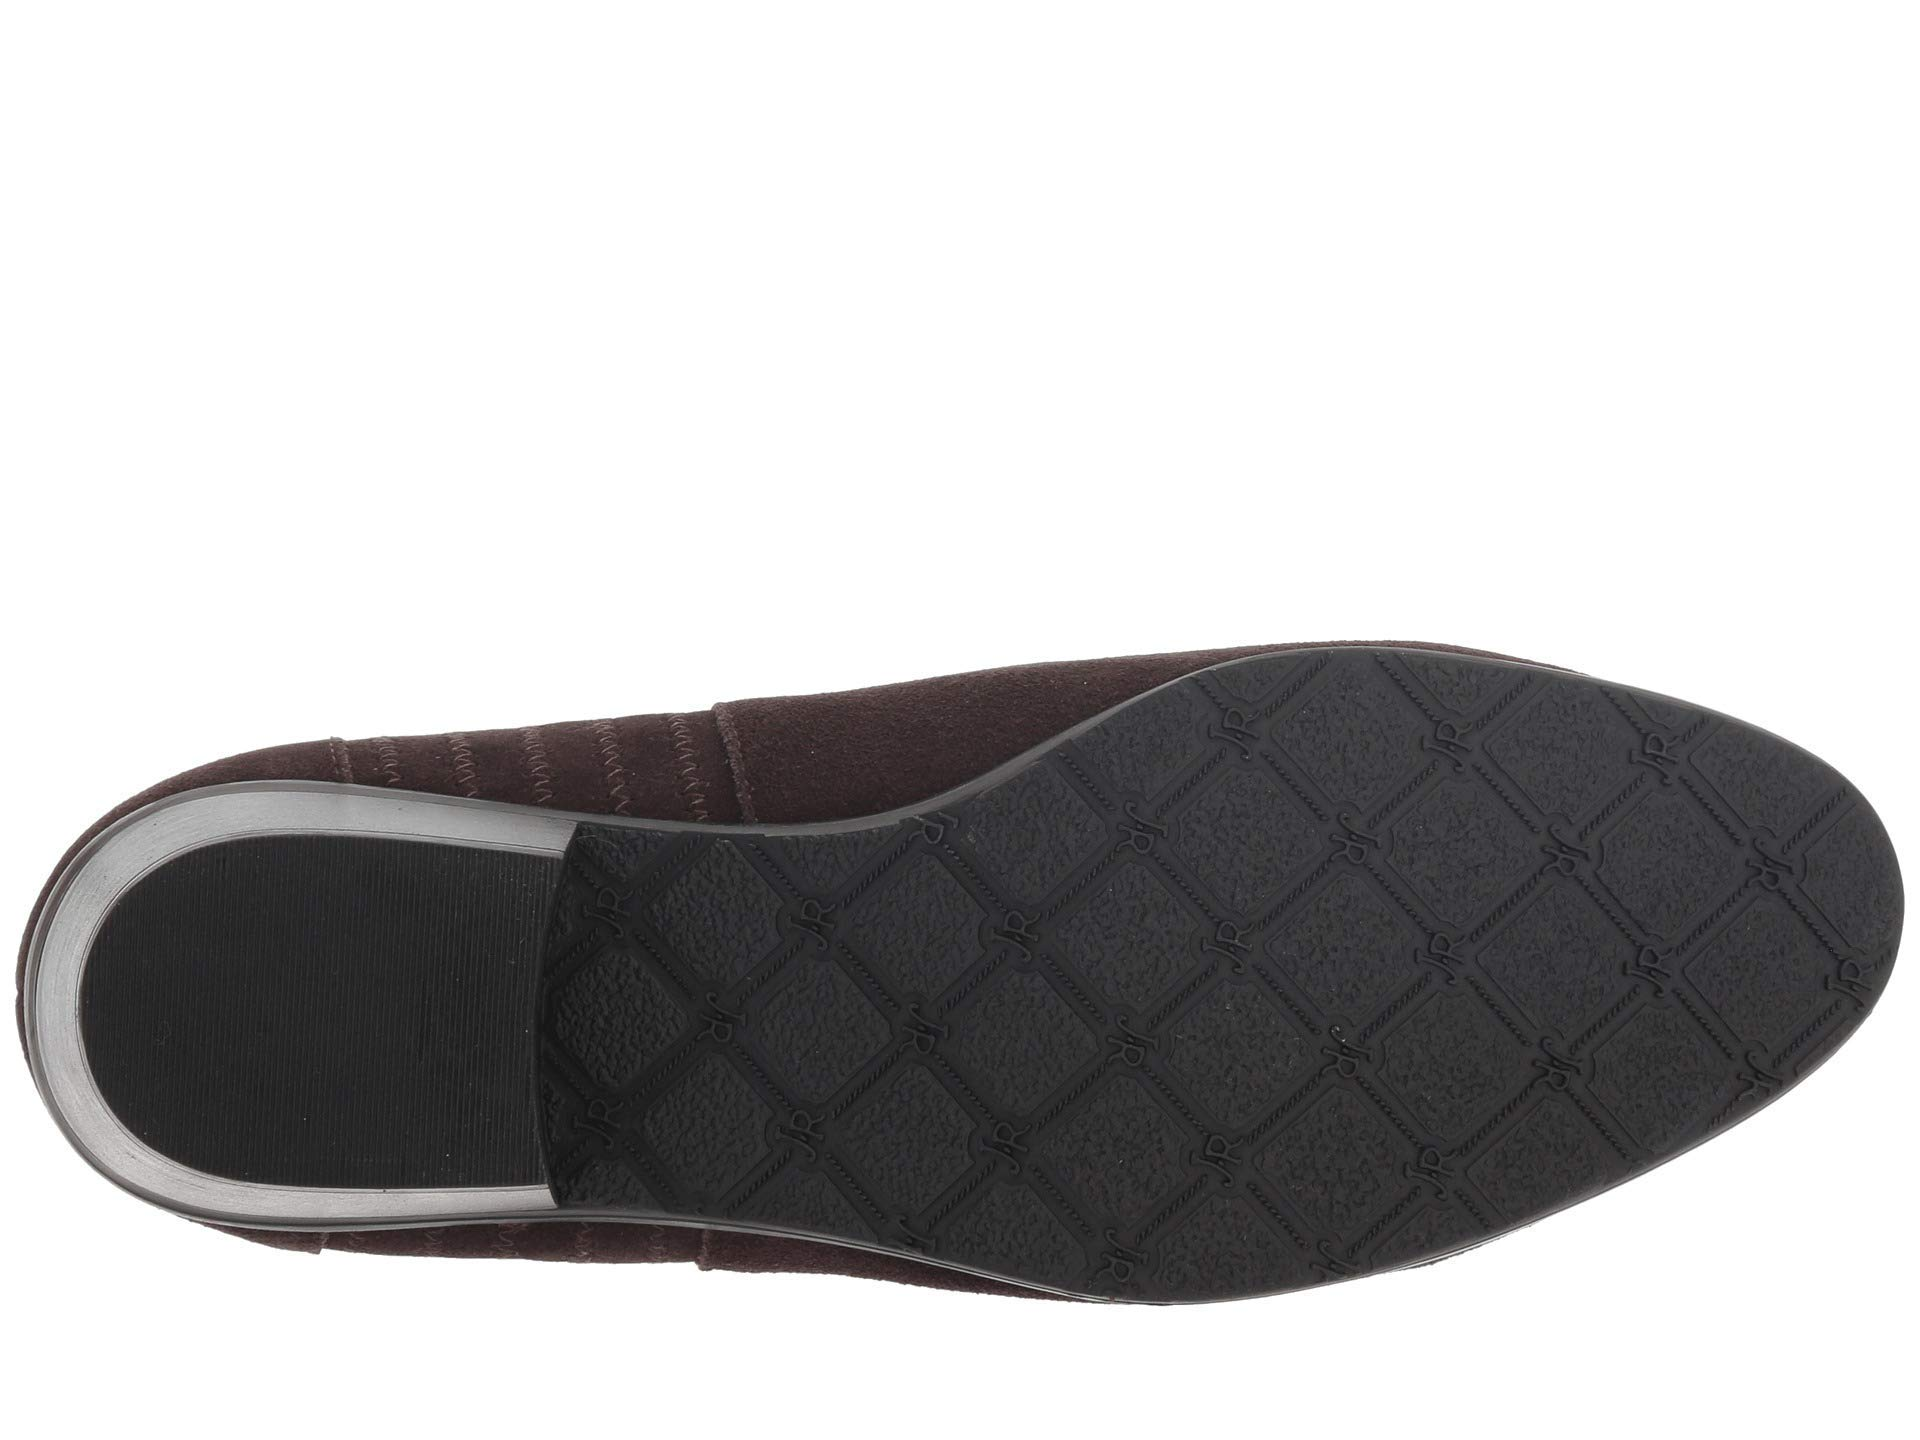line: (1073, 787, 1468, 1184), (635, 865, 1033, 1196), (1488, 740, 1798, 1054), (154, 892, 469, 1137)
quad: (1073, 787, 1468, 1184), (635, 865, 1033, 1196), (1488, 740, 1798, 1054)
text: (1073, 787, 1468, 1184), (635, 865, 1033, 1196), (1488, 740, 1798, 1054)
